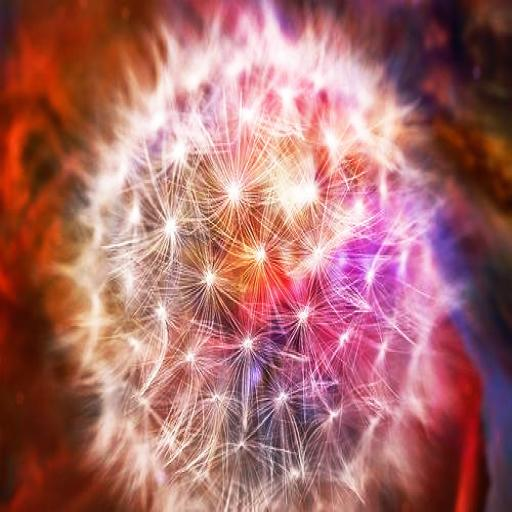dandelion: (4, 0, 510, 512)
